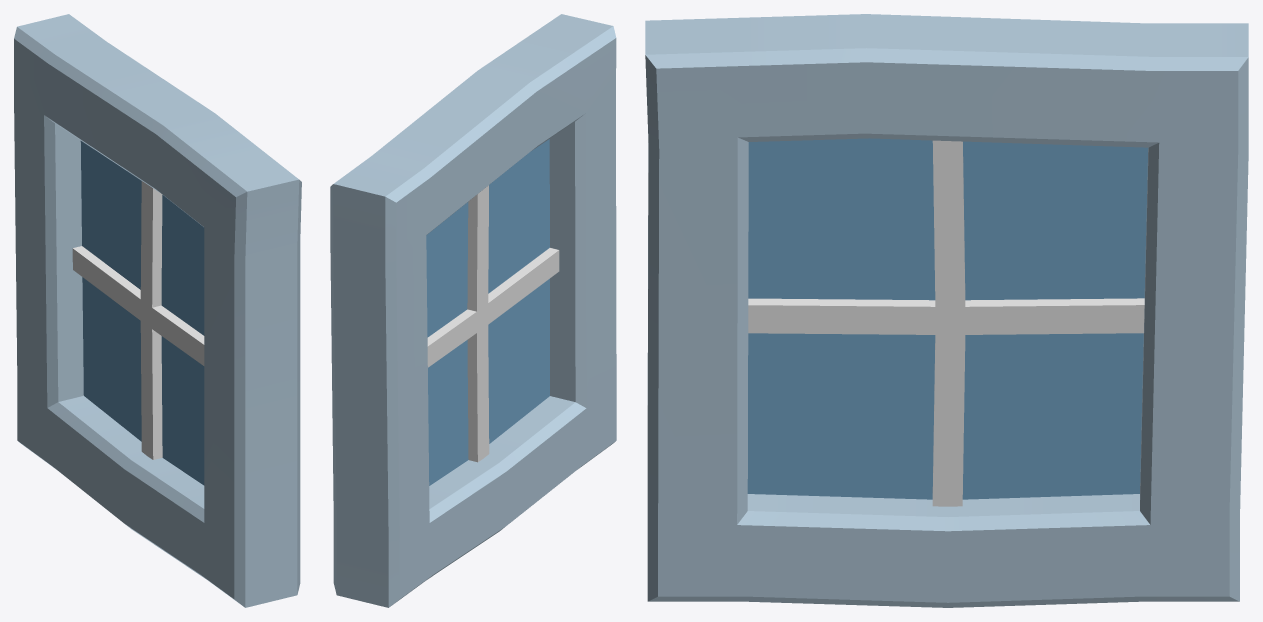
Rendered from HouseWindow.fbx.
3 renders of one model, left to right at view 1: azimuth 30°, elevation 25°; view 2: azimuth 150°, elevation 25°; view 3: azimuth 270°, elevation 25°, orthographic. The views are drawn at different scales.
Visible parts, largest first — view 1: Cube.011; view 2: Cube.011; view 3: Cube.011.
Boxes of the visible parts, box(x1,y1,x2,y2) form: Cube.011: box(14, 14, 301, 607); Cube.011: box(330, 14, 616, 607); Cube.011: box(645, 14, 1248, 607).
Bounding box in the file's own units: 10.14 × 61.78 × 60.24.
